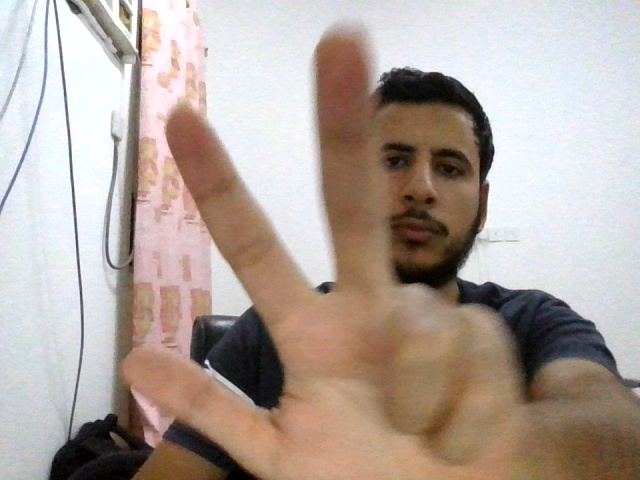Three: (118, 23, 509, 477)
